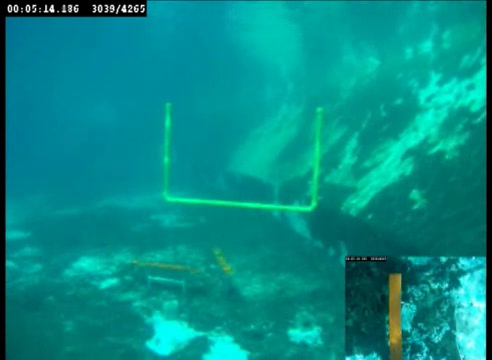channel: (157, 99, 325, 216)
